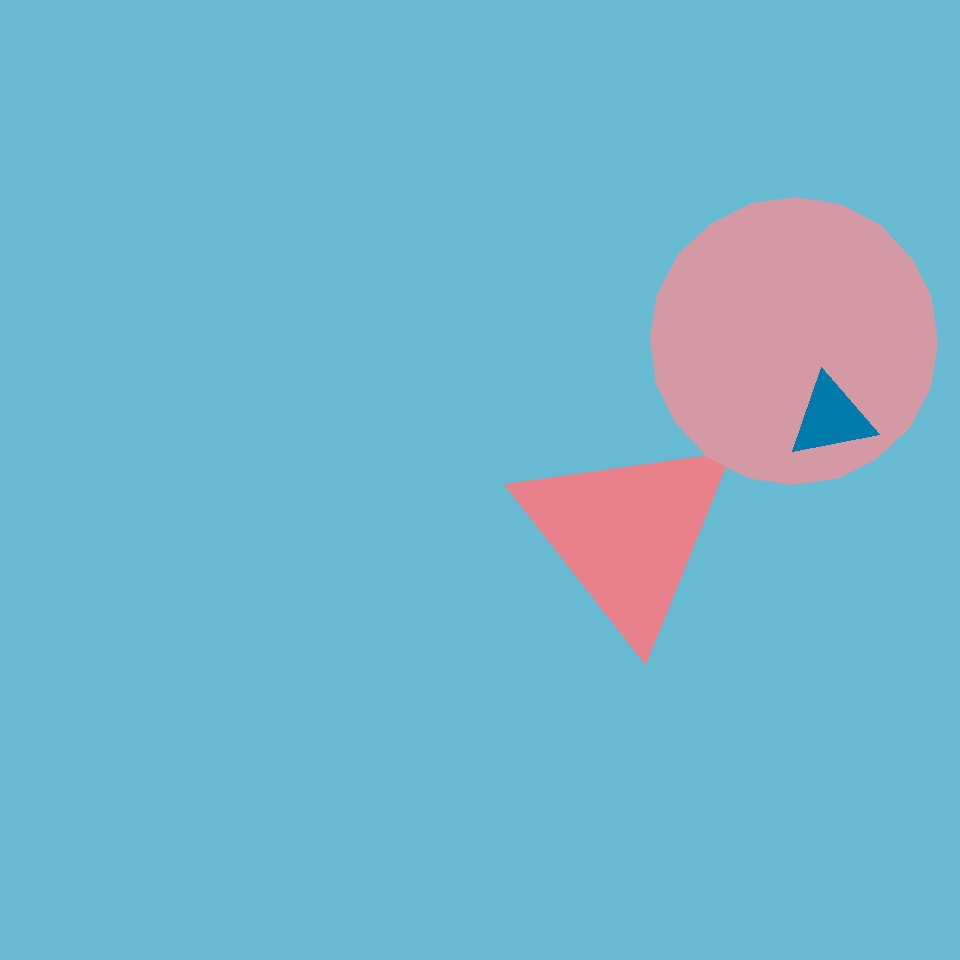circle: (514, 428, 740, 640), (788, 376, 874, 460)
triangle: (370, 43, 725, 398), (80, 237, 370, 527), (650, 198, 938, 484)
